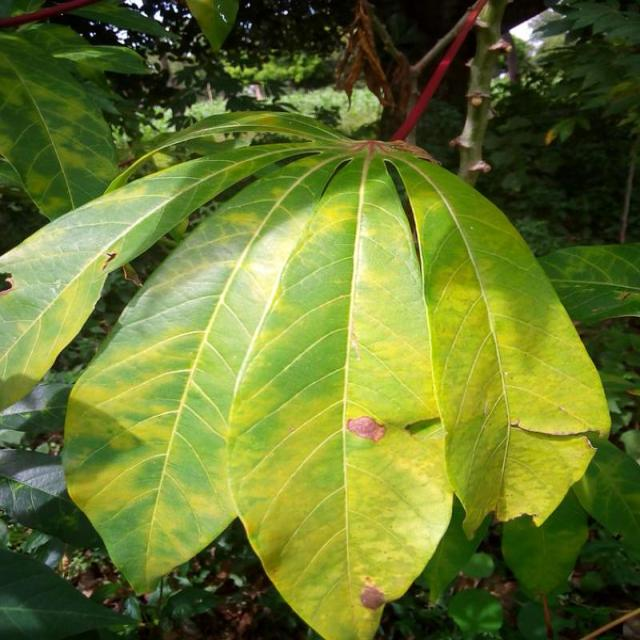cassava leaf: (33, 124, 612, 637)
